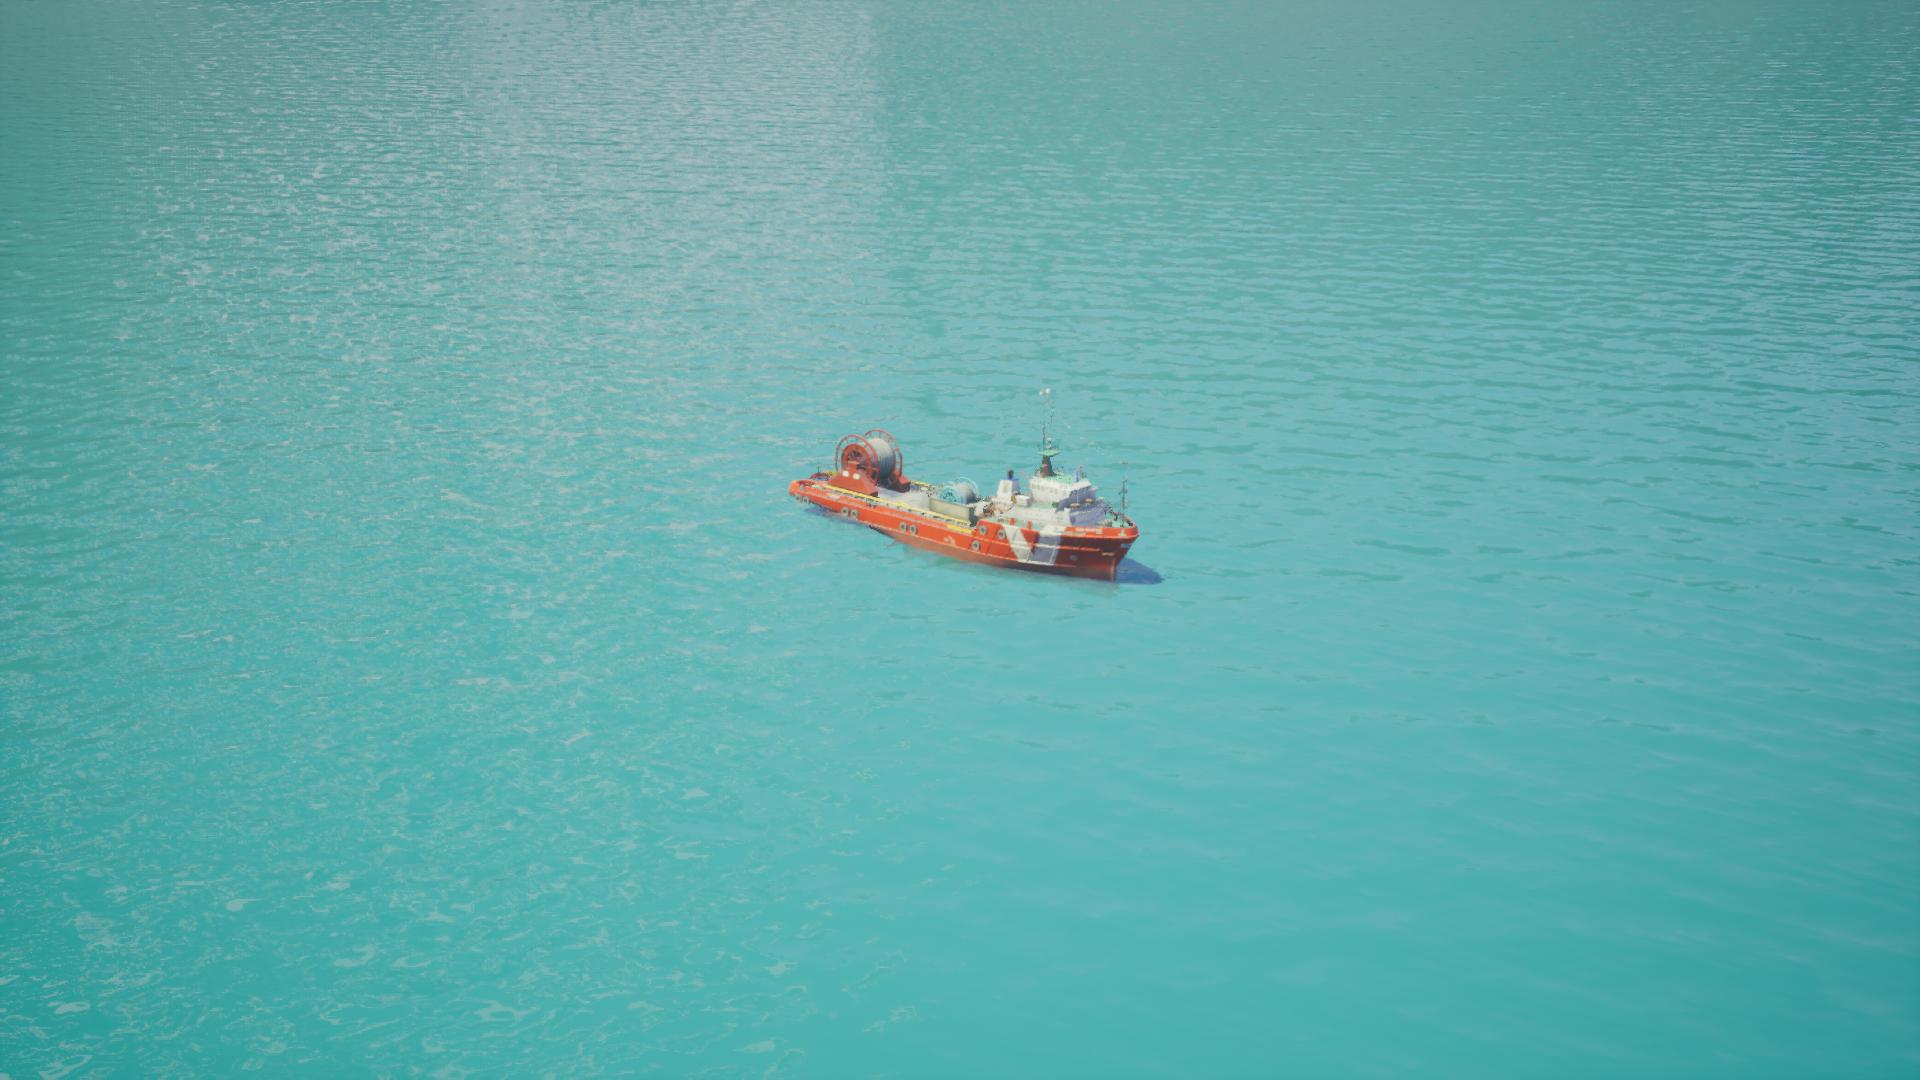Tug Boat: (786, 434, 1148, 586)
